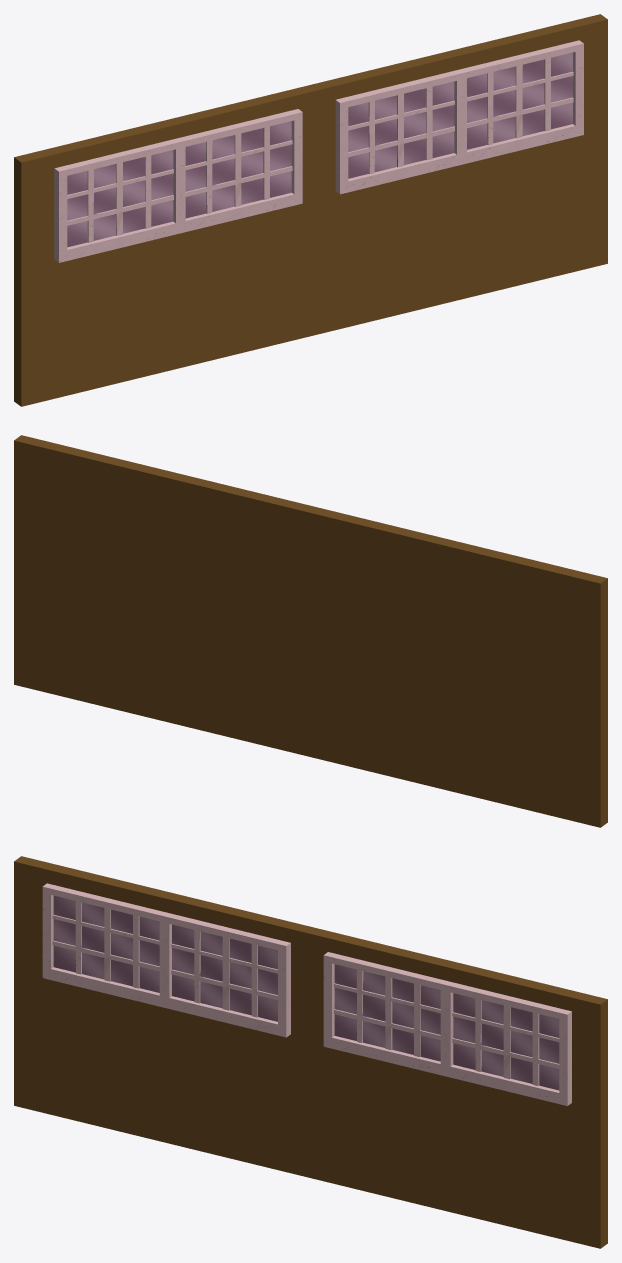
File: ParedGimnasio_Ventanas.fbx
The picture shows the model from 3 angles, top to bottom: view 1: azimuth 30°, elevation 25°; view 2: azimuth 150°, elevation 25°; view 3: azimuth 330°, elevation 25°; orthographic projection.
Visible parts, largest first — view 1: Ventana.004; view 2: Ventana.004; view 3: Ventana.004.
Part boxes in pixels (x1,y1,x2,y2): Ventana.004: (14, 14, 607, 406); Ventana.004: (14, 435, 607, 827); Ventana.004: (14, 856, 607, 1248).
Bounding box in the file's own units: 4078 × 1622 × 143.
